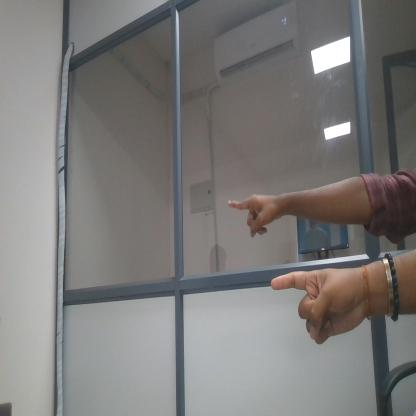Right: (259, 263, 377, 348), (224, 187, 294, 239)
